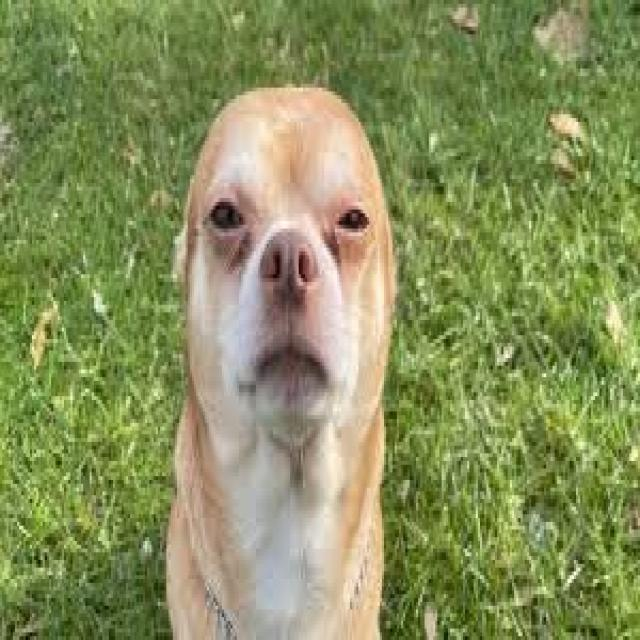Dog: (147, 67, 406, 640)
